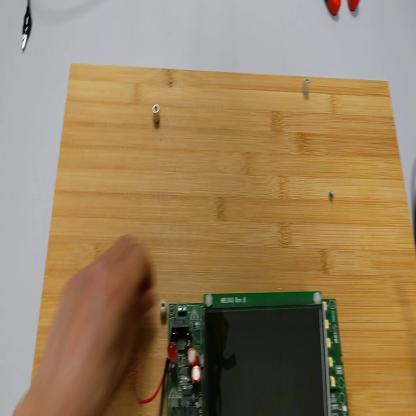hand: (37, 234, 156, 413)
low voltage board: (140, 293, 350, 414)
pliers: (328, 1, 361, 19)
working area: (35, 62, 416, 416)
